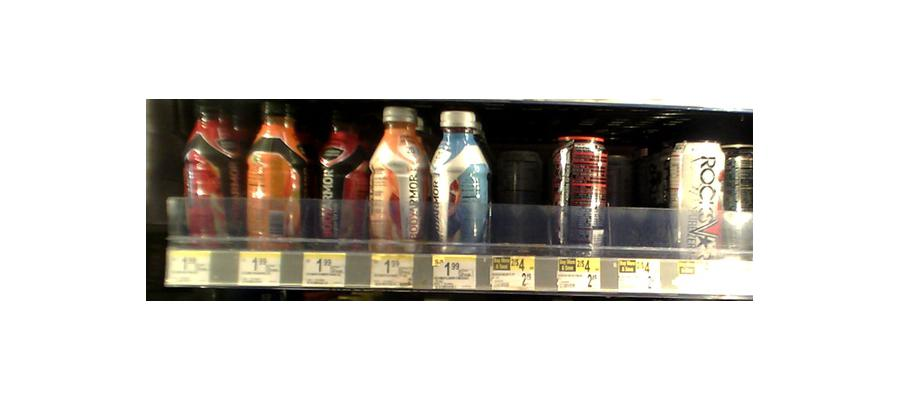bottle: (245, 95, 304, 244), (430, 107, 491, 251), (368, 103, 425, 249), (183, 98, 241, 241), (551, 134, 611, 253), (314, 107, 361, 241), (675, 145, 721, 256), (496, 150, 543, 250), (729, 137, 758, 249)
